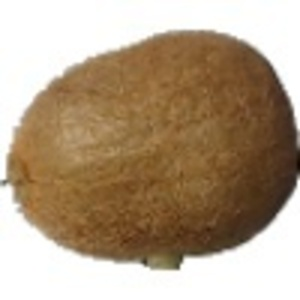kiwi: (1, 29, 300, 274)
